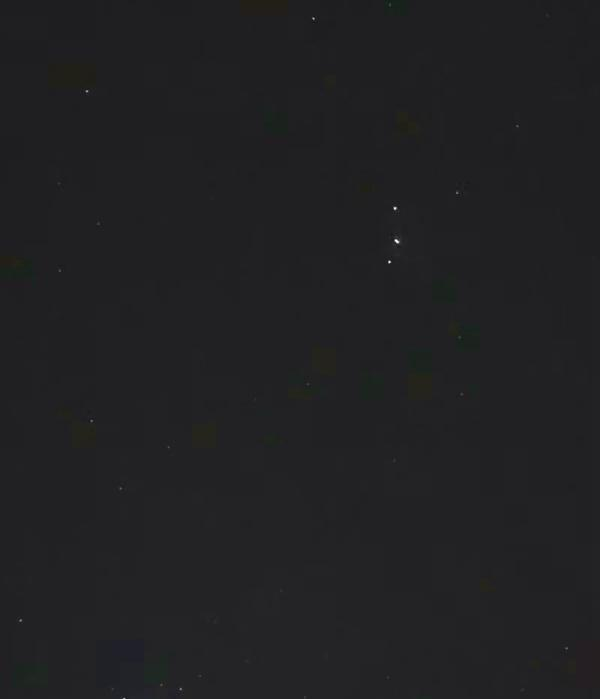Plane: (379, 184, 411, 279)
